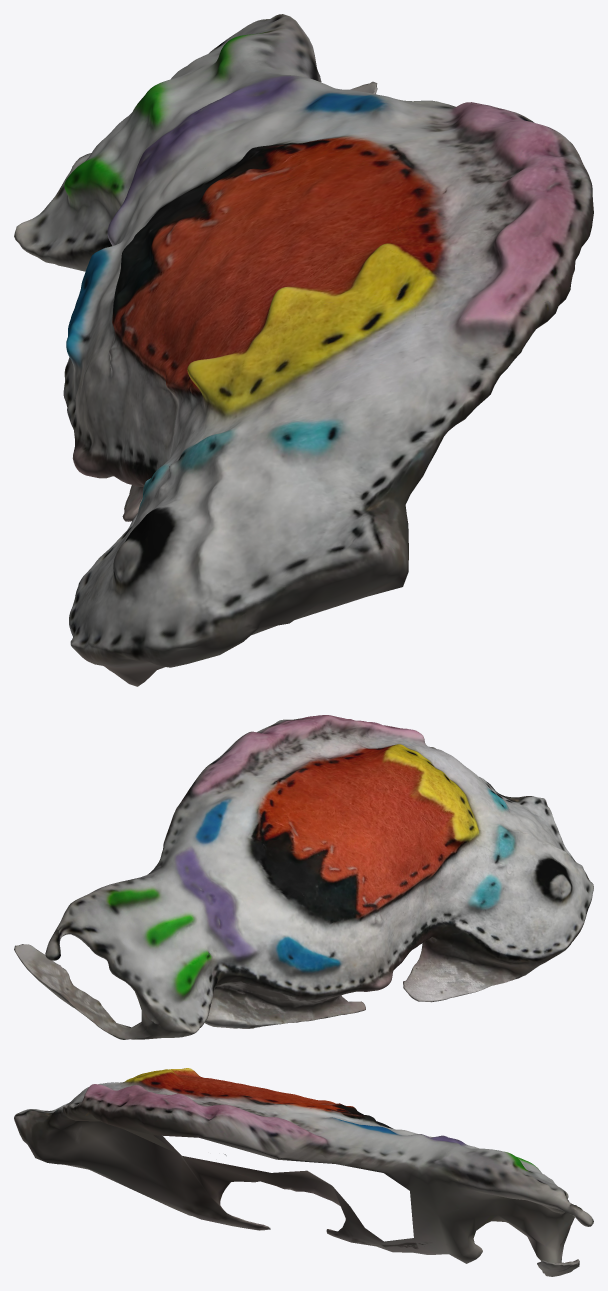
The picture shows the model from 3 angles, top to bottom: view 1: azimuth 30°, elevation 25°; view 2: azimuth 150°, elevation 25°; view 3: azimuth 270°, elevation 25°; orthographic projection. The views are drawn at different scales.
Size of the model in its own units: 0.6673 by 0.378 by 0.9285.
1 material, 1 textured.
